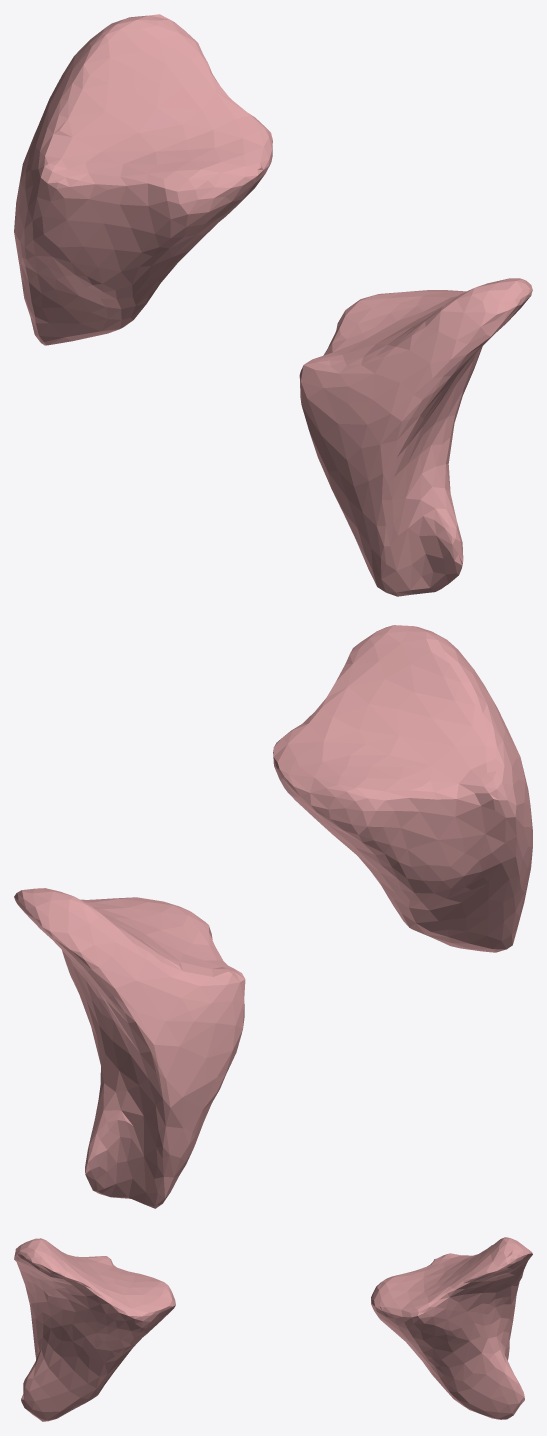
3 renders of one model, top to bottom at view 1: azimuth 30°, elevation 25°; view 2: azimuth 150°, elevation 25°; view 3: azimuth 270°, elevation 25°, orthographic. The views are drawn at different scales.
Visible parts, largest first — view 1: 629.obj; view 2: 629.obj; view 3: 629.obj.
Part boxes in pixels (bbox=[...]): 629.obj: bbox=[14, 14, 532, 596]; 629.obj: bbox=[14, 625, 532, 1208]; 629.obj: bbox=[14, 1237, 532, 1421].
Size of the model in its own units: 1051 by 1394 by 3350.
